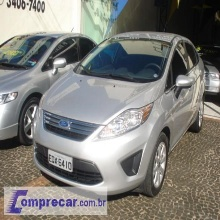no damage: (33, 31, 204, 199), (1, 32, 99, 146)
